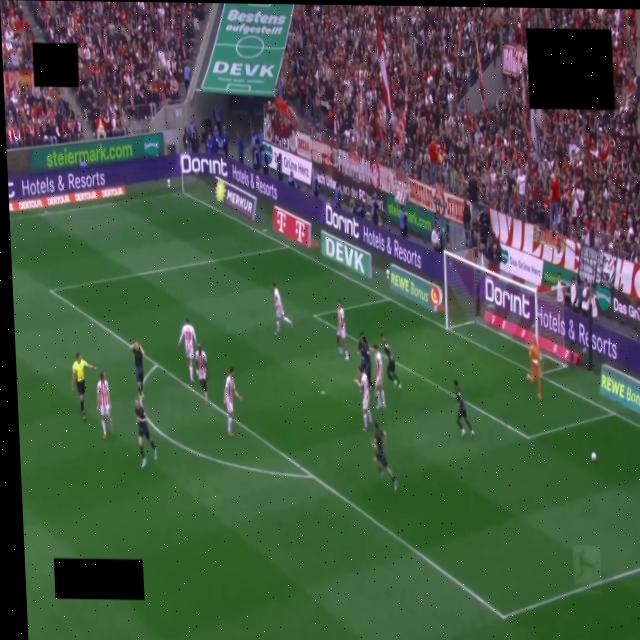ball: (591, 452, 597, 463)
player: (372, 422, 397, 490), (135, 400, 156, 468), (224, 367, 242, 437), (178, 318, 196, 382), (454, 380, 474, 437), (381, 333, 401, 389), (97, 372, 113, 439), (355, 365, 371, 430), (272, 283, 291, 335), (526, 338, 541, 399), (130, 342, 144, 401), (373, 345, 385, 408), (196, 345, 208, 404), (358, 333, 371, 384), (337, 300, 348, 360)
referee: (72, 353, 95, 420)
